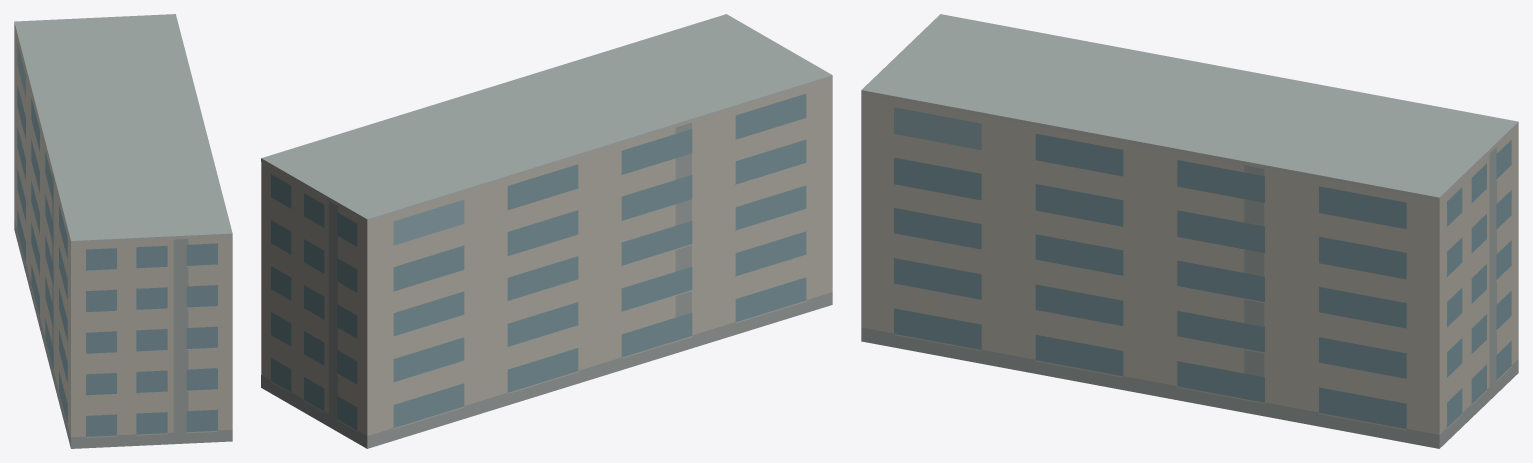
File: residential-3cb3c903-0316-4305-9bd1-1d41830bb1aa.glb
The picture shows the model from 3 angles, left to right: view 1: azimuth 30°, elevation 25°; view 2: azimuth 150°, elevation 25°; view 3: azimuth 270°, elevation 25°; orthographic projection. The views are drawn at different scales.
Visible parts, largest first — view 1: residential-3cb3c903-0316-4305-9bd1-1d41830bb1aa.tmp; view 2: residential-3cb3c903-0316-4305-9bd1-1d41830bb1aa.tmp; view 3: residential-3cb3c903-0316-4305-9bd1-1d41830bb1aa.tmp.
Part boxes in pixels (x1,y1,x2,y2): residential-3cb3c903-0316-4305-9bd1-1d41830bb1aa.tmp: [14, 14, 232, 448]; residential-3cb3c903-0316-4305-9bd1-1d41830bb1aa.tmp: [261, 14, 832, 448]; residential-3cb3c903-0316-4305-9bd1-1d41830bb1aa.tmp: [861, 14, 1518, 448].
Size of the model in its own units: 23.9 by 15.25 by 36.16.
